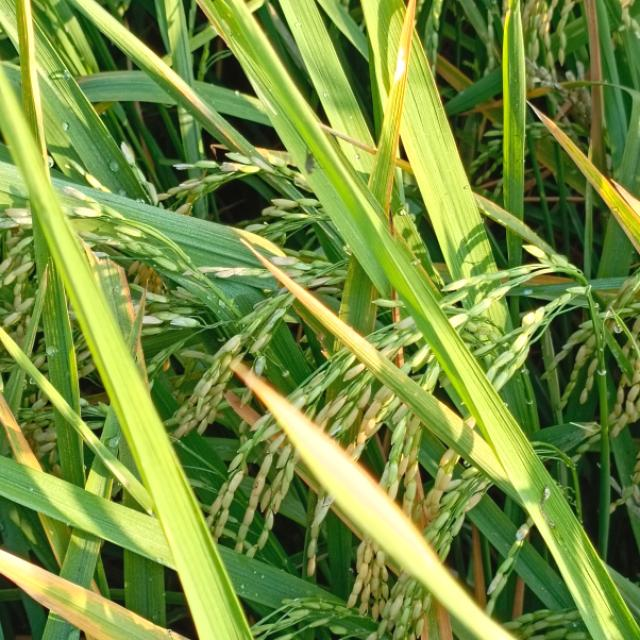Brown spot: (84, 591, 185, 640), (238, 234, 308, 304), (0, 525, 55, 601), (525, 99, 584, 167), (310, 301, 368, 359), (0, 321, 23, 450), (574, 1, 612, 76), (603, 174, 640, 234), (584, 86, 610, 146), (416, 610, 458, 640)
Leaf scald: (296, 142, 328, 182)
